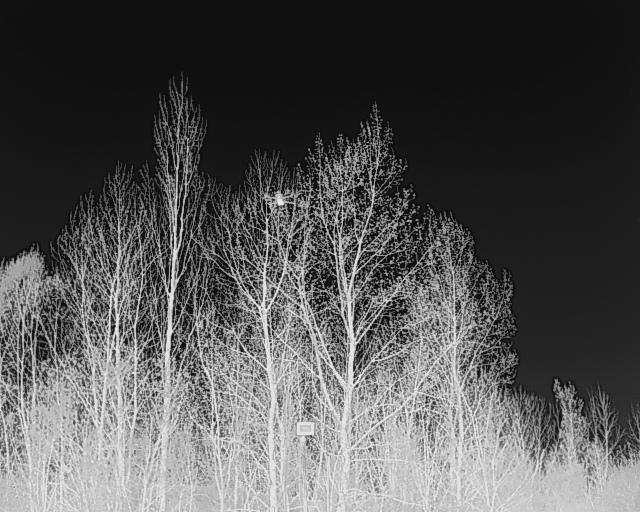drone: (251, 185, 303, 223)
